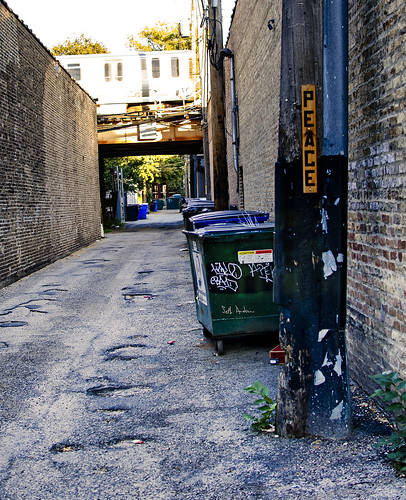bridge: (87, 93, 212, 167)
dumpster: (183, 219, 286, 343)
graffiti: (209, 256, 275, 296)
street: (1, 215, 195, 500)
train: (59, 42, 192, 104)
wall: (1, 24, 99, 261)
